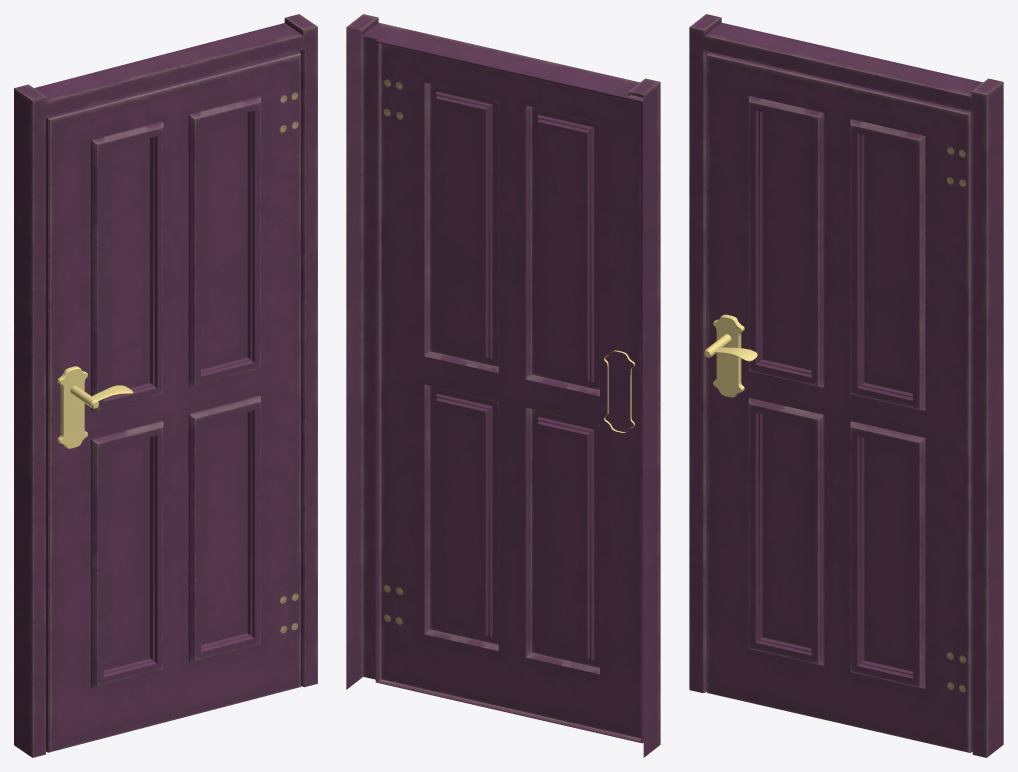
File: door.gltf
3 views of the same model, side by side, from view 1: azimuth 30°, elevation 25°; view 2: azimuth 150°, elevation 25°; view 3: azimuth 330°, elevation 25° (orthographic).
Visible parts, largest first — view 1: Door_Default_0; view 2: Door_Default_0; view 3: Door_Default_0.
Boxes of the visible parts, left/top/right/bottom form: Door_Default_0: left=14, top=14, right=317, bottom=757; Door_Default_0: left=346, top=14, right=660, bottom=757; Door_Default_0: left=689, top=14, right=1003, bottom=757.
Size of the model in its own units: 20.7 by 44.67 by 5.59.
1 material, 1 textured.
